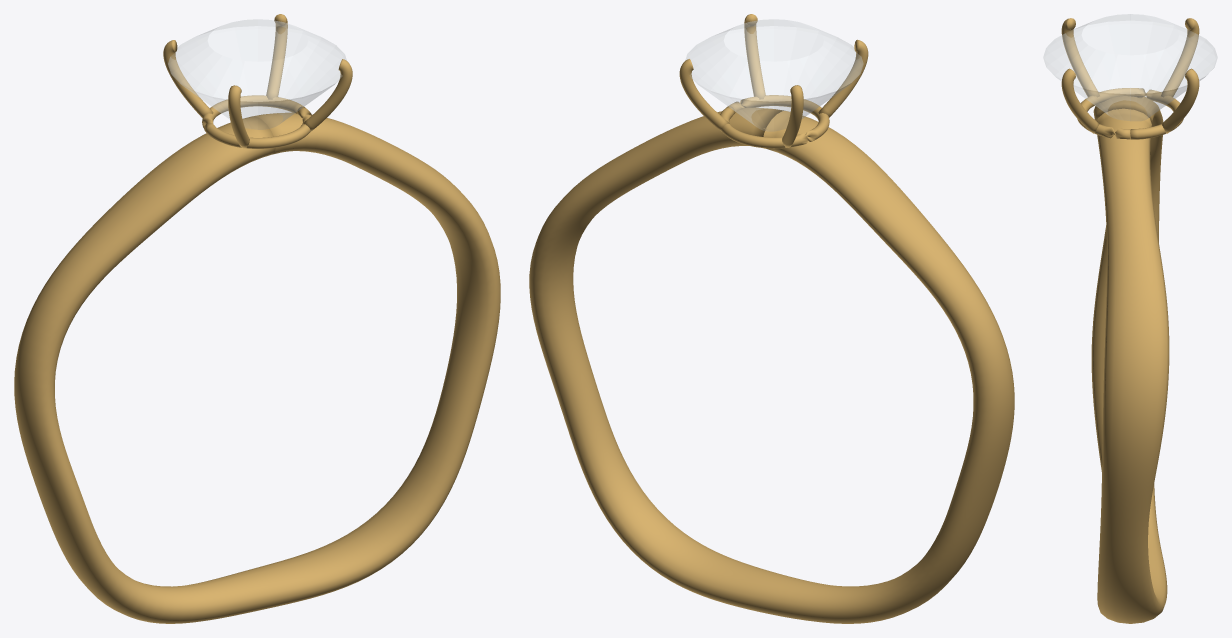
File: bands-sculpted-organic.glb
3 views of the same model, side by side, from view 1: azimuth 30°, elevation 25°; view 2: azimuth 150°, elevation 25°; view 3: azimuth 270°, elevation 25° (orthographic). The views are drawn at different scales.
Parts seen in each view (by area): view 1: Band, Gem, Lower gallery, Prong.001, Prong, Prong.003, Prong.002; view 2: Band, Gem, Lower gallery, Prong.002, Prong.003, Prong, Prong.001; view 3: Band, Gem, Lower gallery, Prong.001, Prong.002, Prong, Prong.003.
Boxes of the visible parts, x1,y1,x2,y2 form: Band: [14, 112, 500, 623]; Gem: [168, 19, 346, 129]; Lower gallery: [202, 95, 311, 148]; Prong.001: [163, 40, 213, 117]; Prong: [266, 14, 287, 99]; Prong.003: [302, 59, 352, 131]; Prong.002: [228, 85, 249, 148]; Band: [529, 107, 1014, 623]; Gem: [685, 19, 863, 131]; Lower gallery: [720, 95, 829, 148]; Prong.002: [818, 39, 868, 117]; Prong.003: [744, 14, 765, 99]; Prong: [679, 59, 729, 131]; Prong.001: [782, 85, 803, 147]; Band: [1091, 96, 1169, 623]; Gem: [1043, 14, 1217, 120]; Lower gallery: [1077, 88, 1183, 139]; Prong.001: [1161, 18, 1199, 97]; Prong.002: [1061, 18, 1099, 97]; Prong: [1161, 68, 1199, 133]; Prong.003: [1061, 68, 1099, 133].
Bounding box in the file's own units: 19.79 × 22.64 × 6.5.
